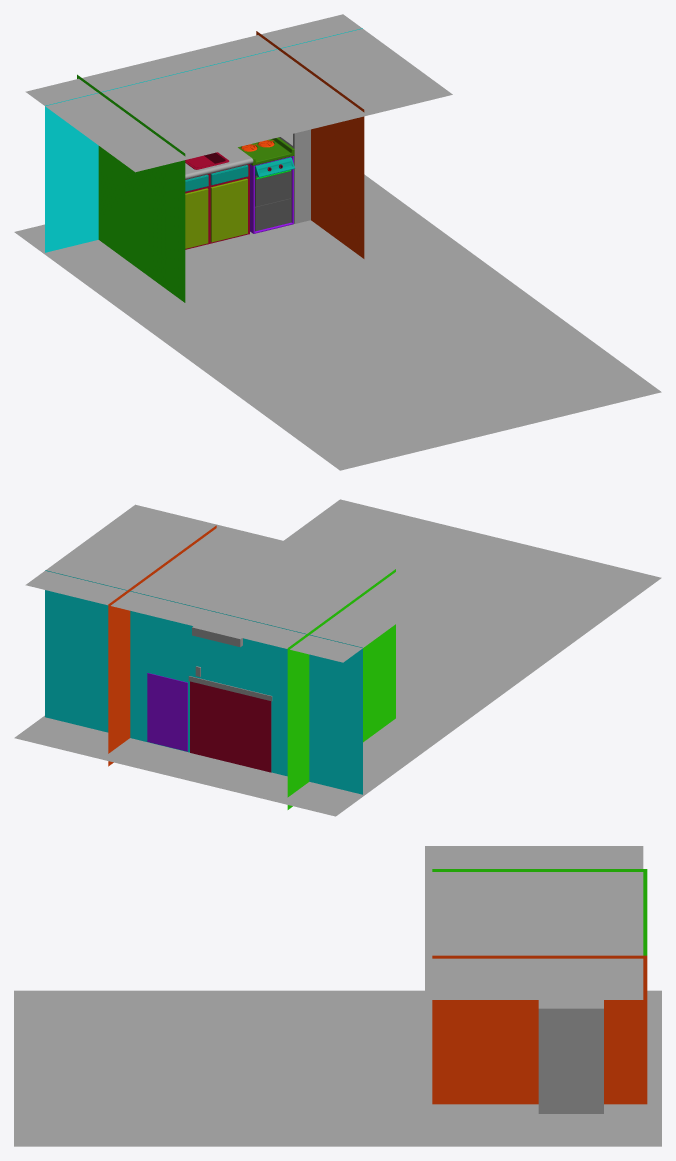
The model's file is Kitchen.fbx.
3 views of the same model, one above another, from view 1: azimuth 30°, elevation 25°; view 2: azimuth 150°, elevation 25°; view 3: azimuth 270°, elevation 25° (orthographic).
Parts seen in each view (by area): view 1: Floor, Ceiling, Front_Wall, Right_Drawer, Oven_Bottom, Right_Shelf, Right_Stove1, Granite; view 2: Floor, Front_Wall, Ceiling, Right_Drawer, Oven_Bottom, Hook_Board, Granite; view 3: Floor, Ceiling, Front_Wall, Right_Shelf.
Part boxes in pixels (x1,y1,x2,y2): Floor: [14, 174, 661, 470]; Ceiling: [25, 14, 452, 172]; Front_Wall: [45, 28, 364, 302]; Right_Drawer: [185, 164, 249, 249]; Oven_Bottom: [250, 156, 294, 233]; Right_Shelf: [279, 129, 310, 223]; Right_Stove1: [238, 137, 294, 165]; Granite: [185, 147, 253, 179]; Floor: [14, 499, 661, 816]; Front_Wall: [45, 525, 395, 809]; Ceiling: [25, 504, 452, 662]; Right_Drawer: [190, 681, 271, 772]; Oven_Bottom: [147, 673, 187, 751]; Hook_Board: [192, 626, 242, 647]; Granite: [188, 676, 272, 701]; Floor: [14, 990, 661, 1146]; Ceiling: [425, 846, 643, 999]; Front_Wall: [432, 869, 647, 1104]; Right_Shelf: [538, 1000, 603, 1113].
Bounding box in the file's own units: 67.31 × 32.41 × 118.
